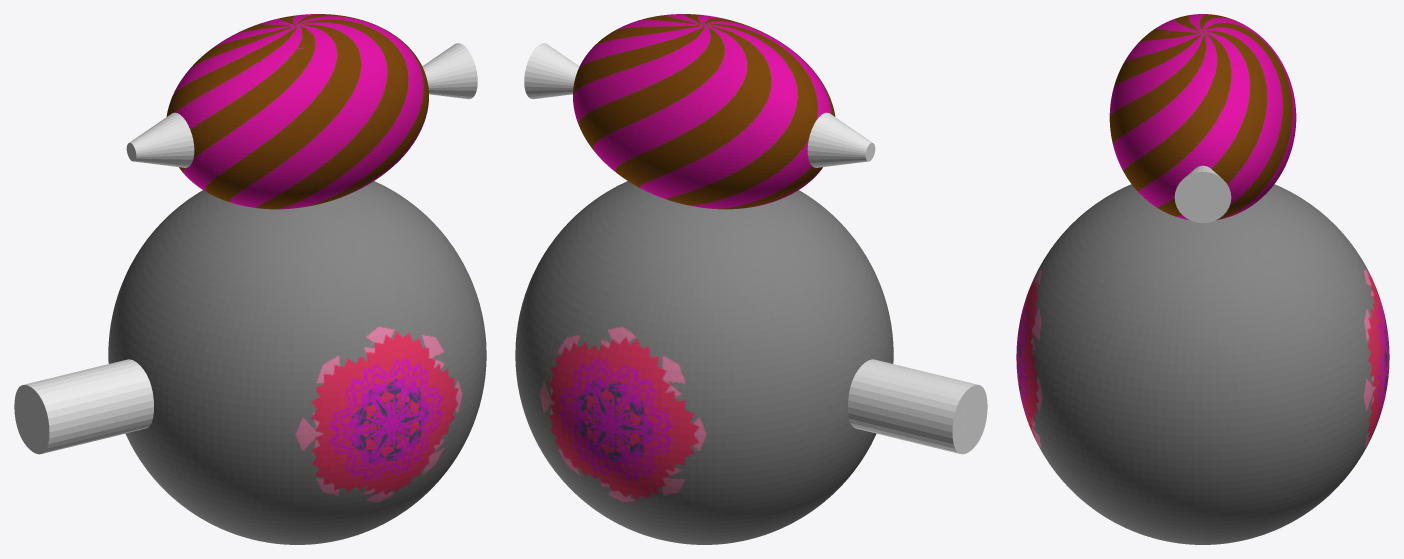
Rendered from BOD0_BMC0_BCC0_BPT2_FRC8_HEA1_HMC3_HCC10_HPT3_ELT2_ERT3_ELL0_ERL0_AP1_AAL0_AAR1_BEK0.fbx.
3 renders of one model, left to right at view 1: azimuth 30°, elevation 25°; view 2: azimuth 150°, elevation 25°; view 3: azimuth 270°, elevation 25°, orthographic.
Parts seen in each view (by area): view 1: Body, Arm, Ear, Ear.001; view 2: Body, Arm, Ear, Ear.001; view 3: Body, Ear.001.
Boxes of the visible parts, x1,y1,x2,y2 form: Body: [108, 14, 486, 544]; Arm: [14, 359, 153, 454]; Ear: [126, 112, 194, 167]; Ear.001: [422, 43, 477, 99]; Body: [515, 14, 893, 544]; Arm: [848, 359, 987, 454]; Ear: [807, 112, 875, 167]; Ear.001: [524, 43, 579, 99]; Body: [1016, 14, 1389, 544]; Ear.001: [1174, 165, 1231, 222].
Size of the model in its own units: 65 by 72.41 by 49.36.
1 material, 1 textured.
